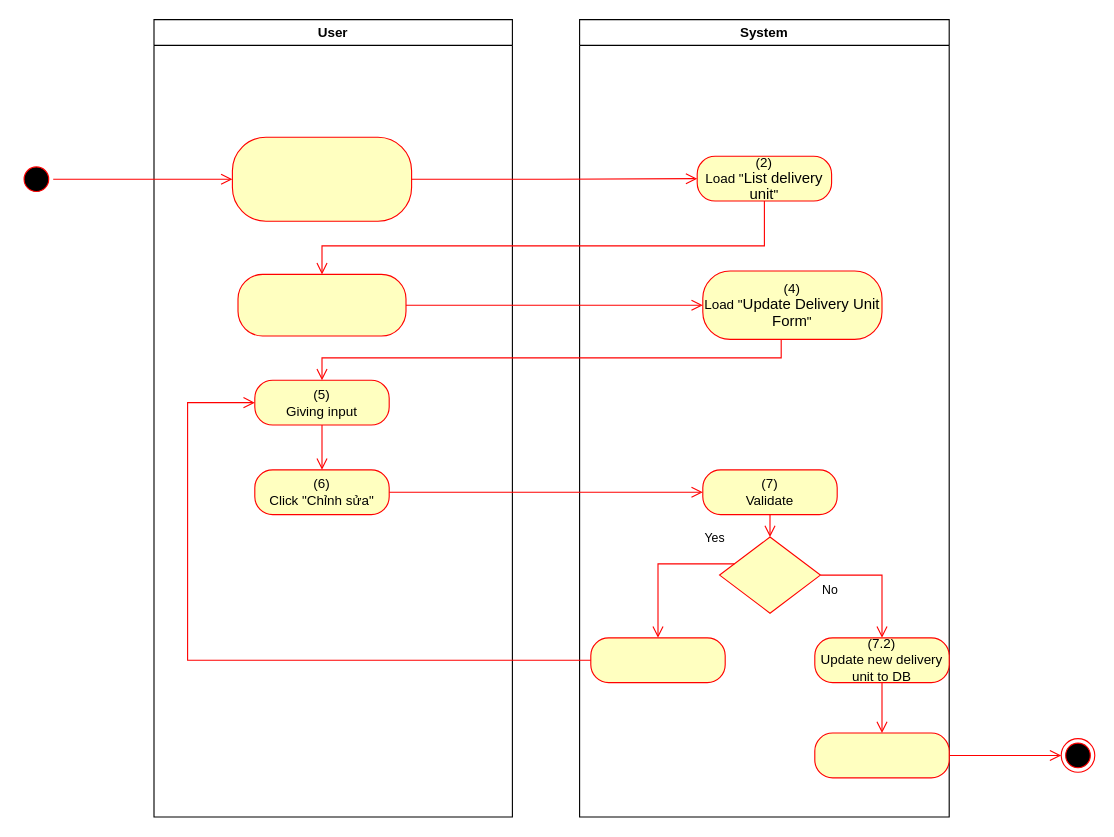
This 1114x837 diagram has some shape labels left out. Each missing label, with the box of its shape:
(1) On "left menu" click " Delivery Management – CRUD delivery unit ": (231, 136, 412, 221)
(3) Click on button "delete" need update delivery unit: (237, 273, 406, 336)
(7.1) Show MSG: (590, 637, 725, 683)
(8) Update UI: (814, 732, 949, 778)
